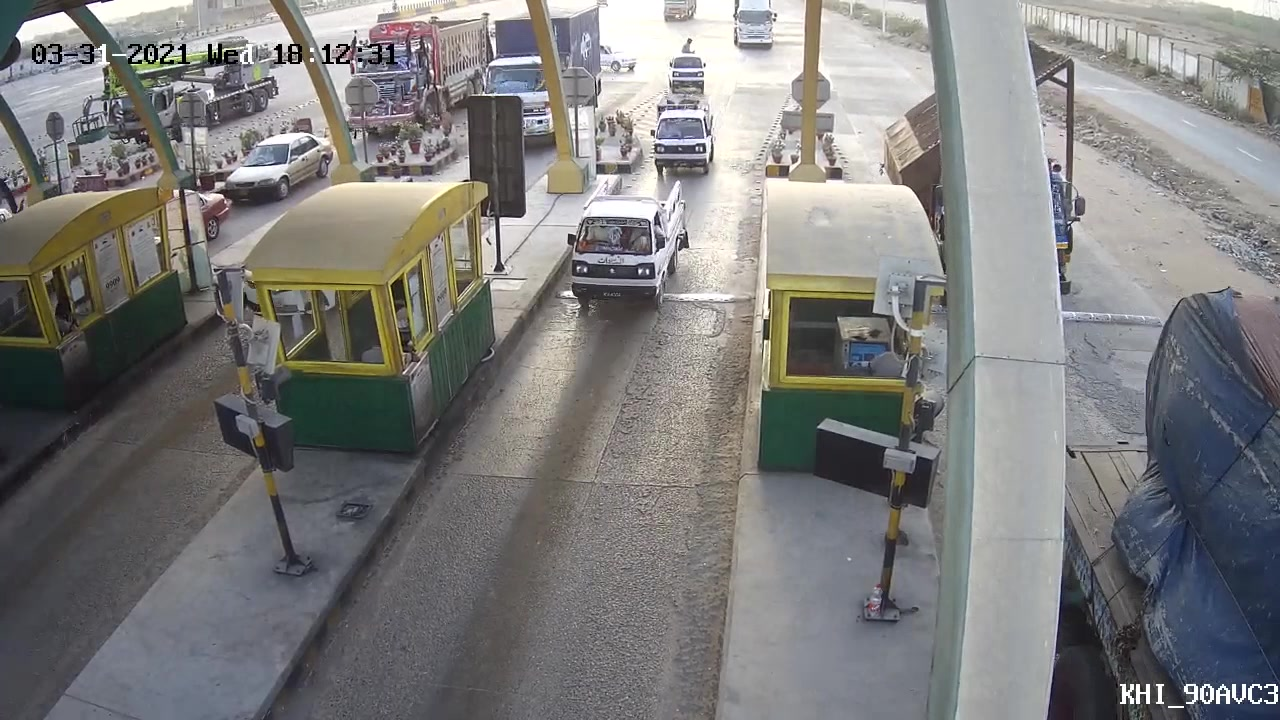F1: (559, 184, 686, 308)
